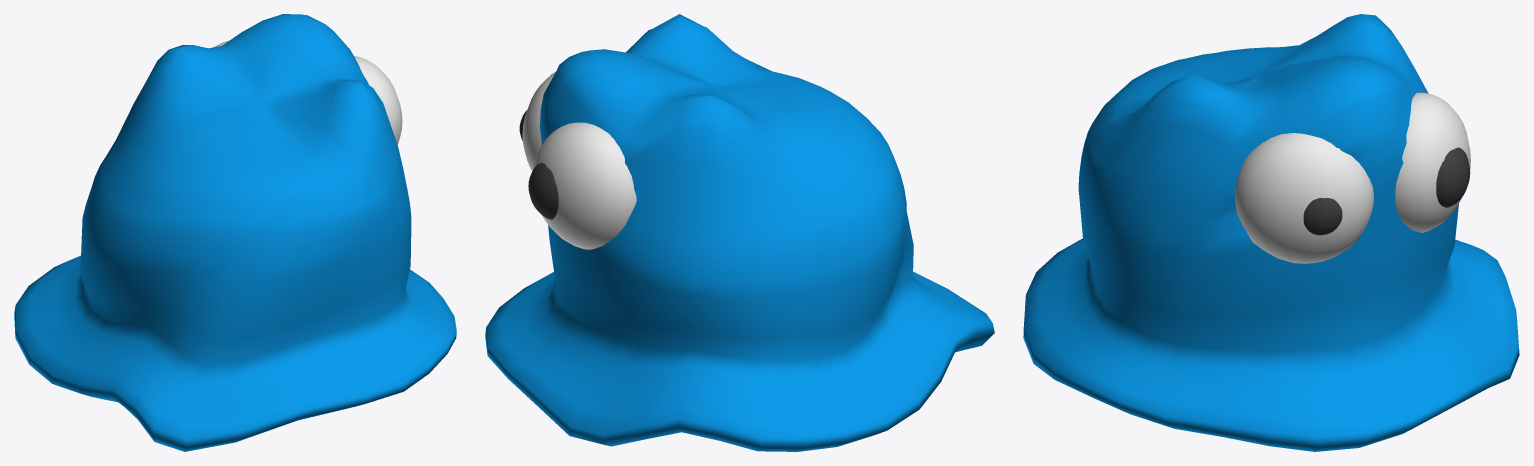
The model's file is SLIME_BLEU.fbx.
3 renders of one model, left to right at view 1: azimuth 30°, elevation 25°; view 2: azimuth 150°, elevation 25°; view 3: azimuth 270°, elevation 25°, orthographic. The views are drawn at different scales.
Visible parts, largest first — view 1: SLIME3; view 2: SLIME3; view 3: SLIME3.
Part boxes in pixels (x1,y1,x2,y2): SLIME3: [14, 14, 456, 451]; SLIME3: [485, 14, 994, 451]; SLIME3: [1023, 14, 1519, 451].
Size of the model in its own units: 181 by 152 by 179.
